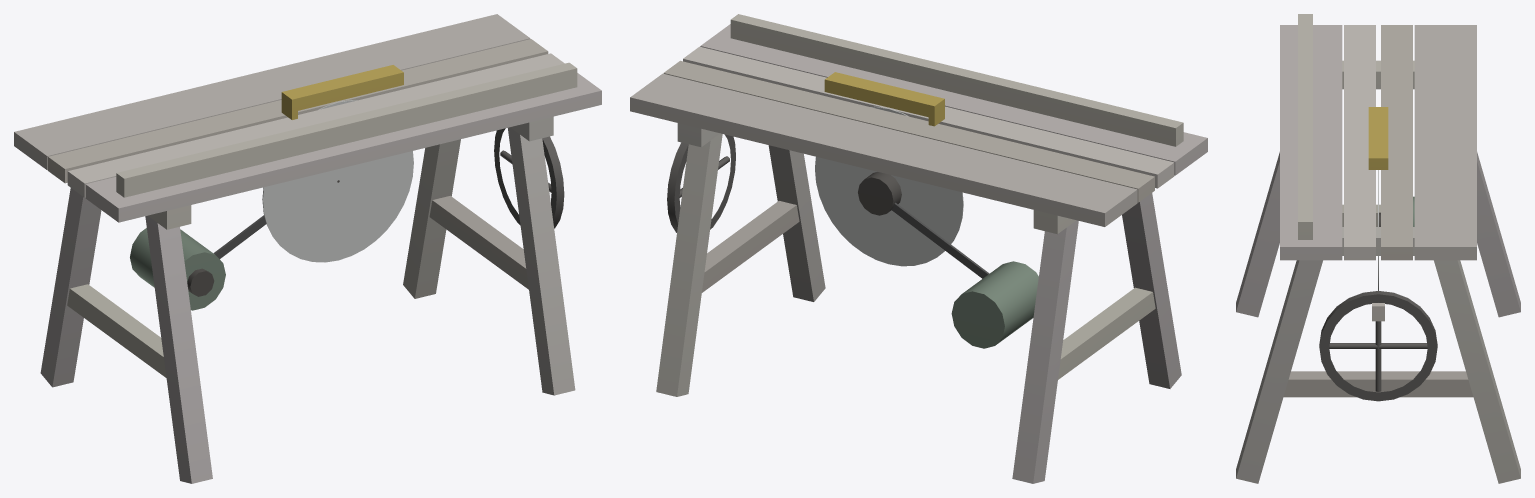
The model's file is sawbench_wood.glb.
3 renders of one model, left to right at view 1: azimuth 30°, elevation 25°; view 2: azimuth 150°, elevation 25°; view 3: azimuth 270°, elevation 25°, orthographic. The views are drawn at different scales.
Parts seen in each view (by area): view 1: sawbench_wood; view 2: sawbench_wood; view 3: sawbench_wood.
Part boxes in pixels (x1,y1,x2,y2): sawbench_wood: (14, 14, 601, 483); sawbench_wood: (630, 14, 1207, 483); sawbench_wood: (1236, 14, 1520, 483).
Size of the model in its own units: 1.6 by 0.9389 by 0.8677.
